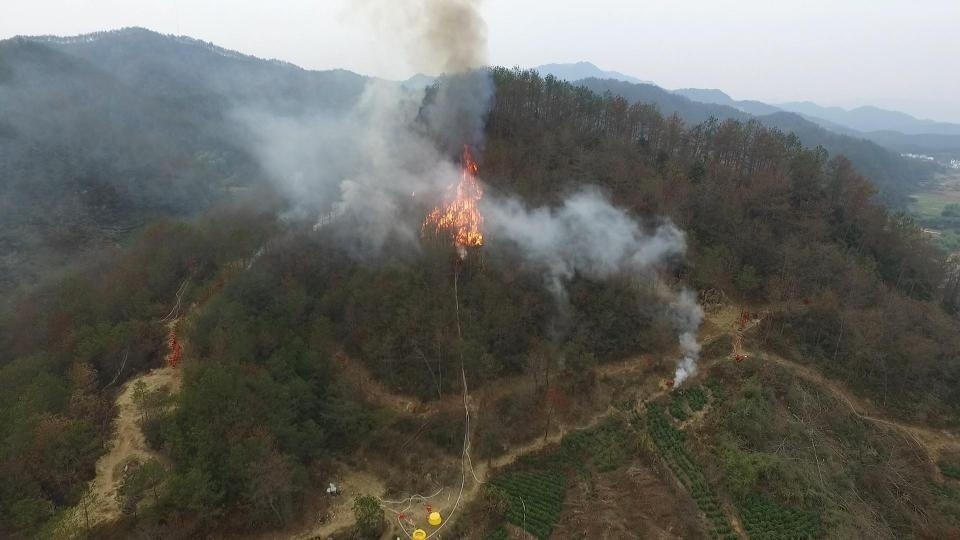fire: (415, 143, 493, 255)
